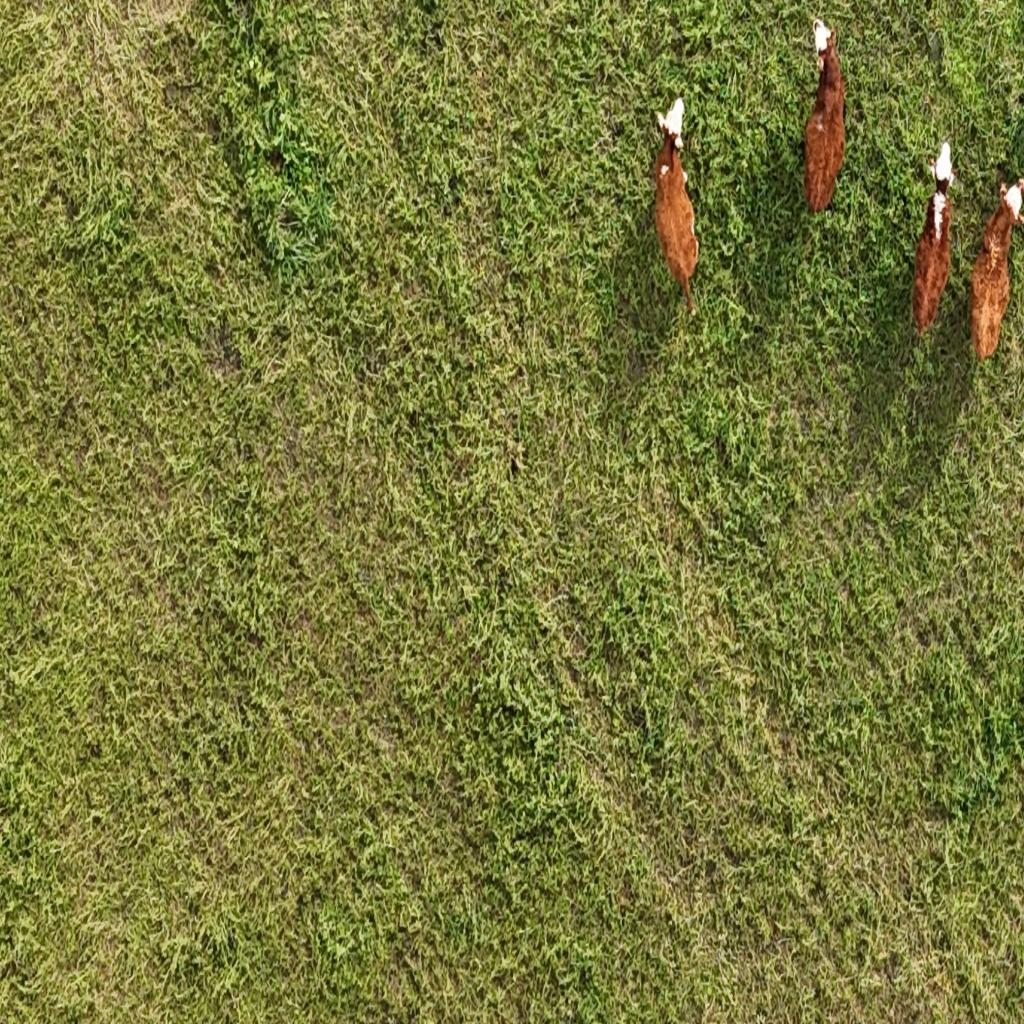cow: (966, 172, 1023, 366), (652, 97, 700, 319), (803, 15, 848, 219), (910, 141, 955, 344)
